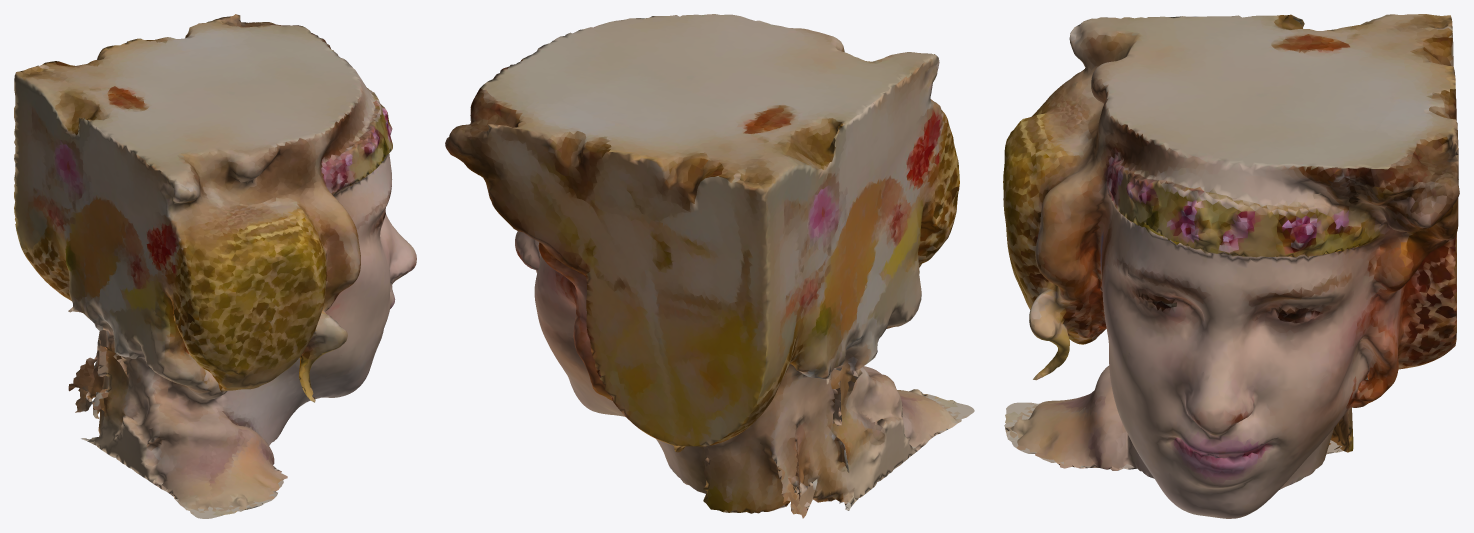
The model's file is Meme2 w_.fbx.
3 renders of one model, left to right at view 1: azimuth 30°, elevation 25°; view 2: azimuth 150°, elevation 25°; view 3: azimuth 270°, elevation 25°, orthographic. The views are drawn at different scales.
Visible parts, largest first — view 1: tripo_node_28a1a7f7-b843-4b88-bc87-1297fd8e304a; view 2: tripo_node_28a1a7f7-b843-4b88-bc87-1297fd8e304a; view 3: tripo_node_28a1a7f7-b843-4b88-bc87-1297fd8e304a.
Boxes of the visible parts, box(x1,y1,x2,y2) form: tripo_node_28a1a7f7-b843-4b88-bc87-1297fd8e304a: box(14, 14, 416, 518); tripo_node_28a1a7f7-b843-4b88-bc87-1297fd8e304a: box(445, 14, 974, 518); tripo_node_28a1a7f7-b843-4b88-bc87-1297fd8e304a: box(1003, 14, 1459, 518).
Size of the model in its own units: 93.84 by 93.79 by 99.96.
Materials: 1 (1 with a texture image).
